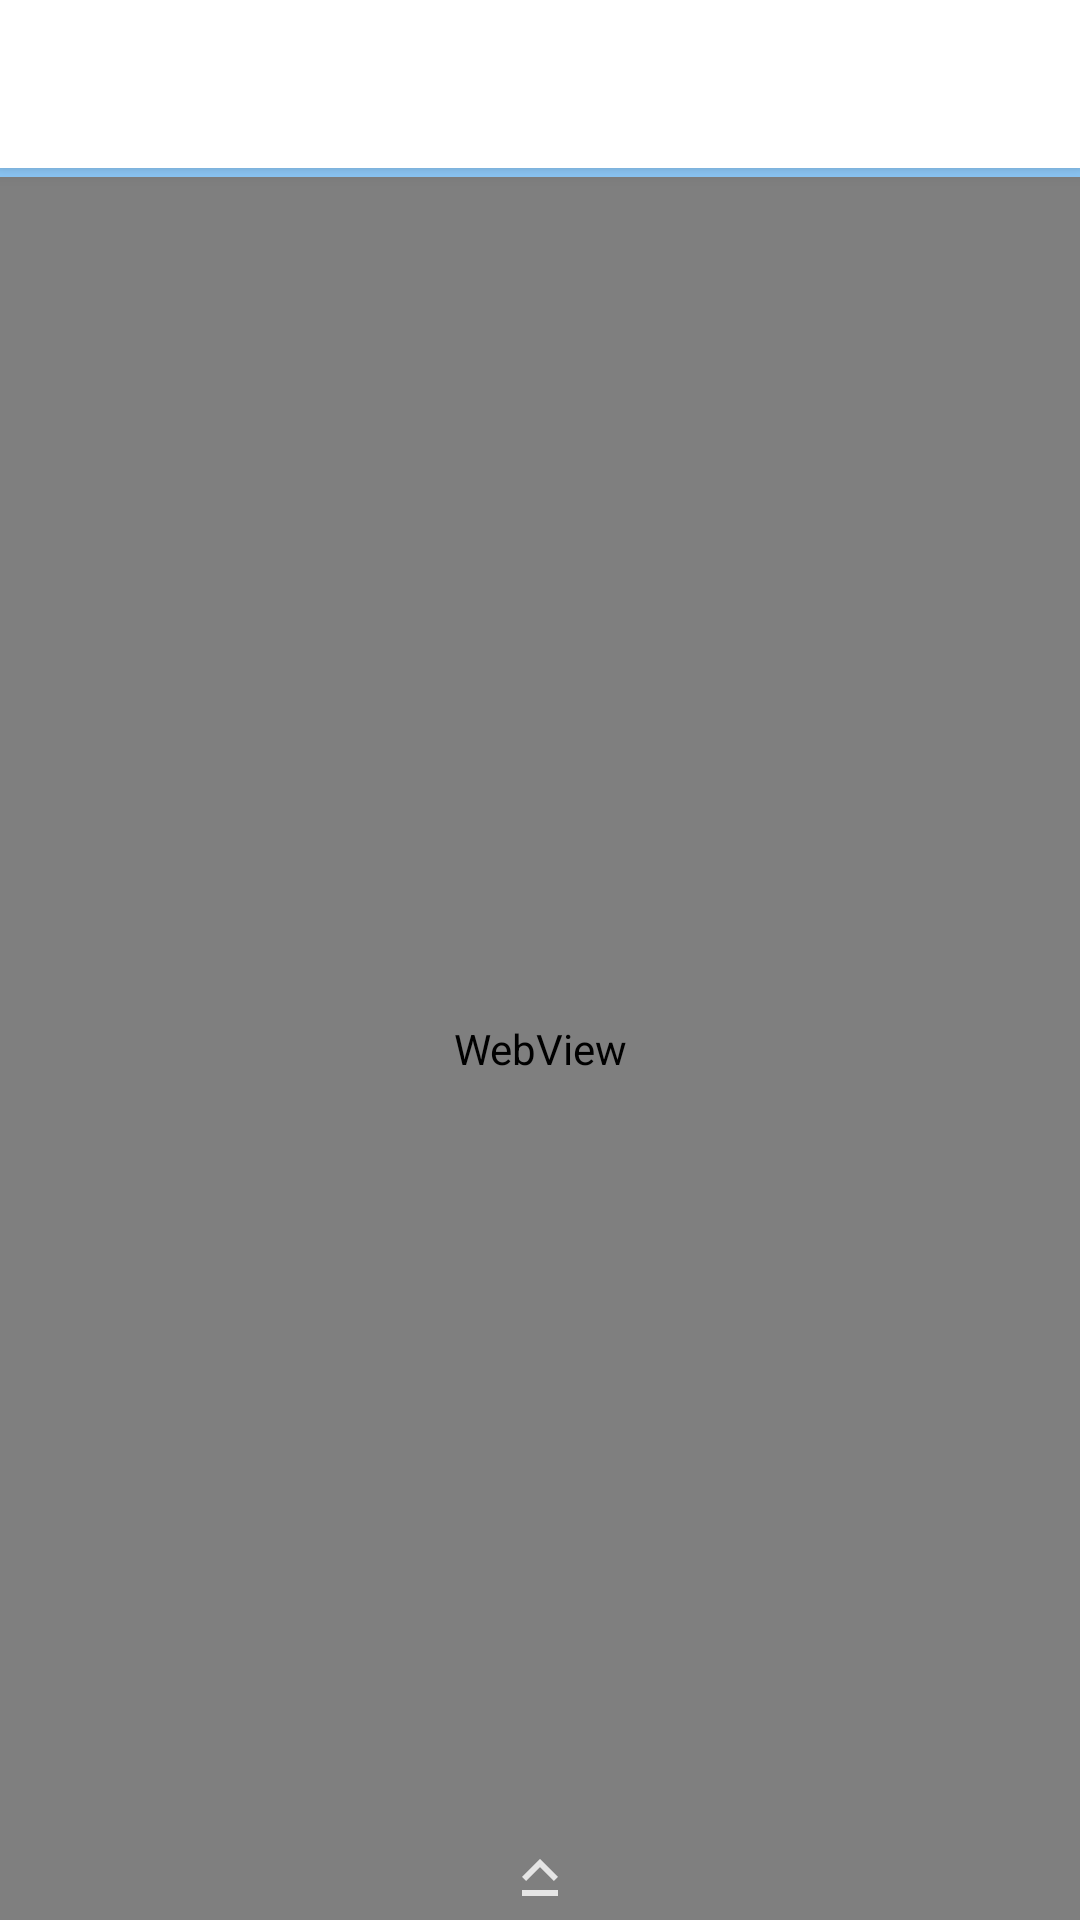

Icons on this 1080px x 1920px Android screen, each with its box as [x1=x1, y1=y1, x2=x2, y2=y2]:
from bottom: [x1=522, y1=1859, x2=558, y2=1896]
